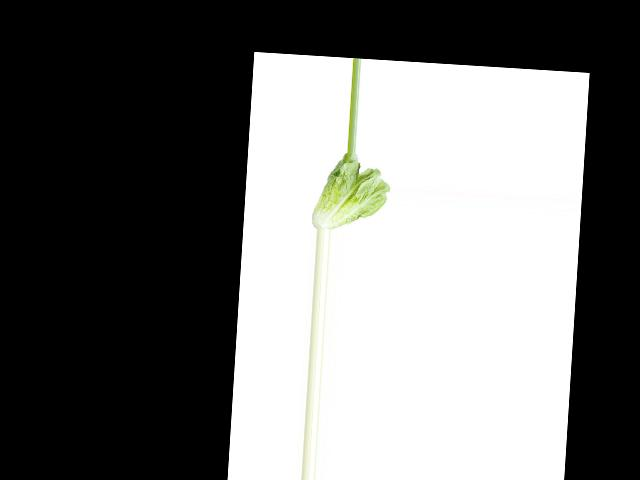lettuce: (310, 152, 393, 232)
